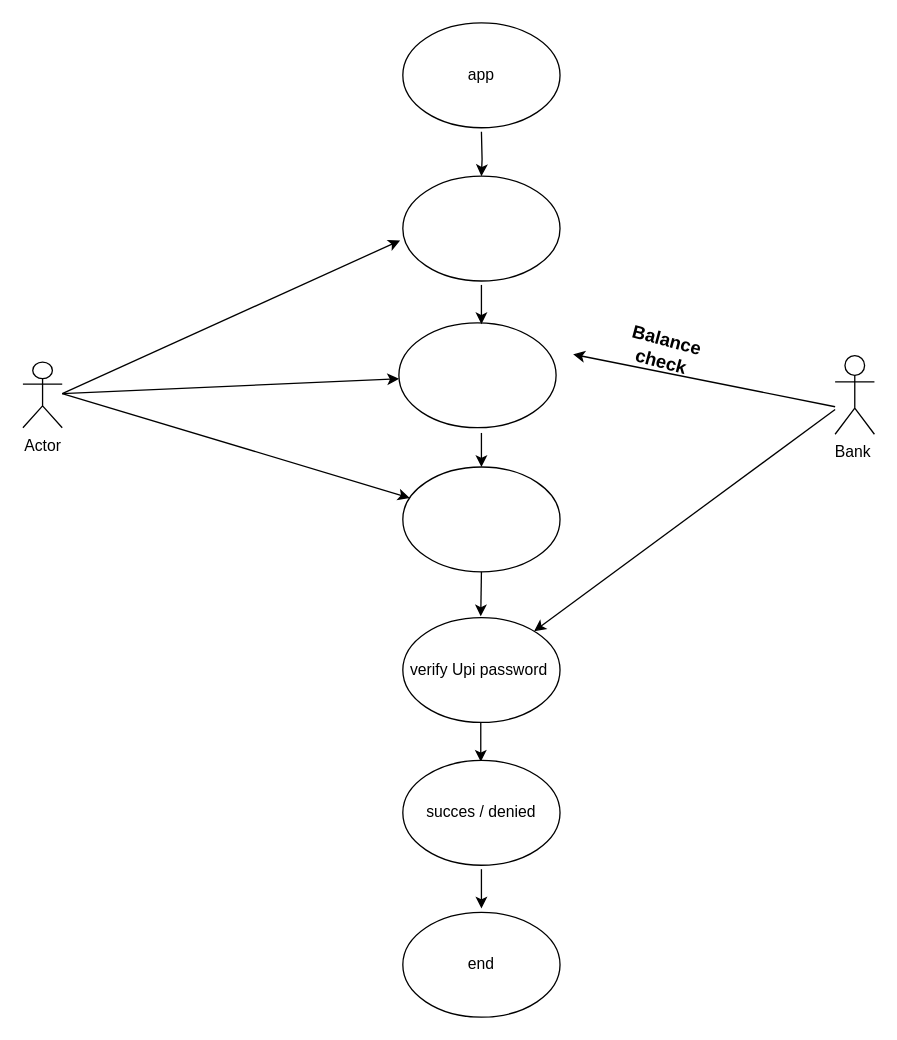
This 897x1040 diagram has some shape labels left out. The shapes that lost their labels are listed below. From the top down, each one's centre as x and y in pixels, then its label:
At pixel 481 228: "To upi / To bank".
At pixel 477 375: "Enter Rs.".
At pixel 481 519: "Upi password".
